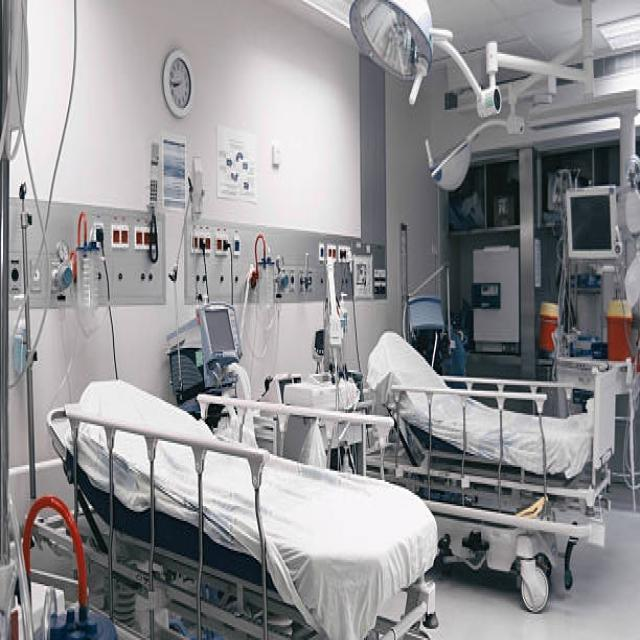Monitor: (188, 300, 260, 396), (558, 176, 624, 266)
bed: (46, 376, 438, 638), (364, 329, 617, 612)
